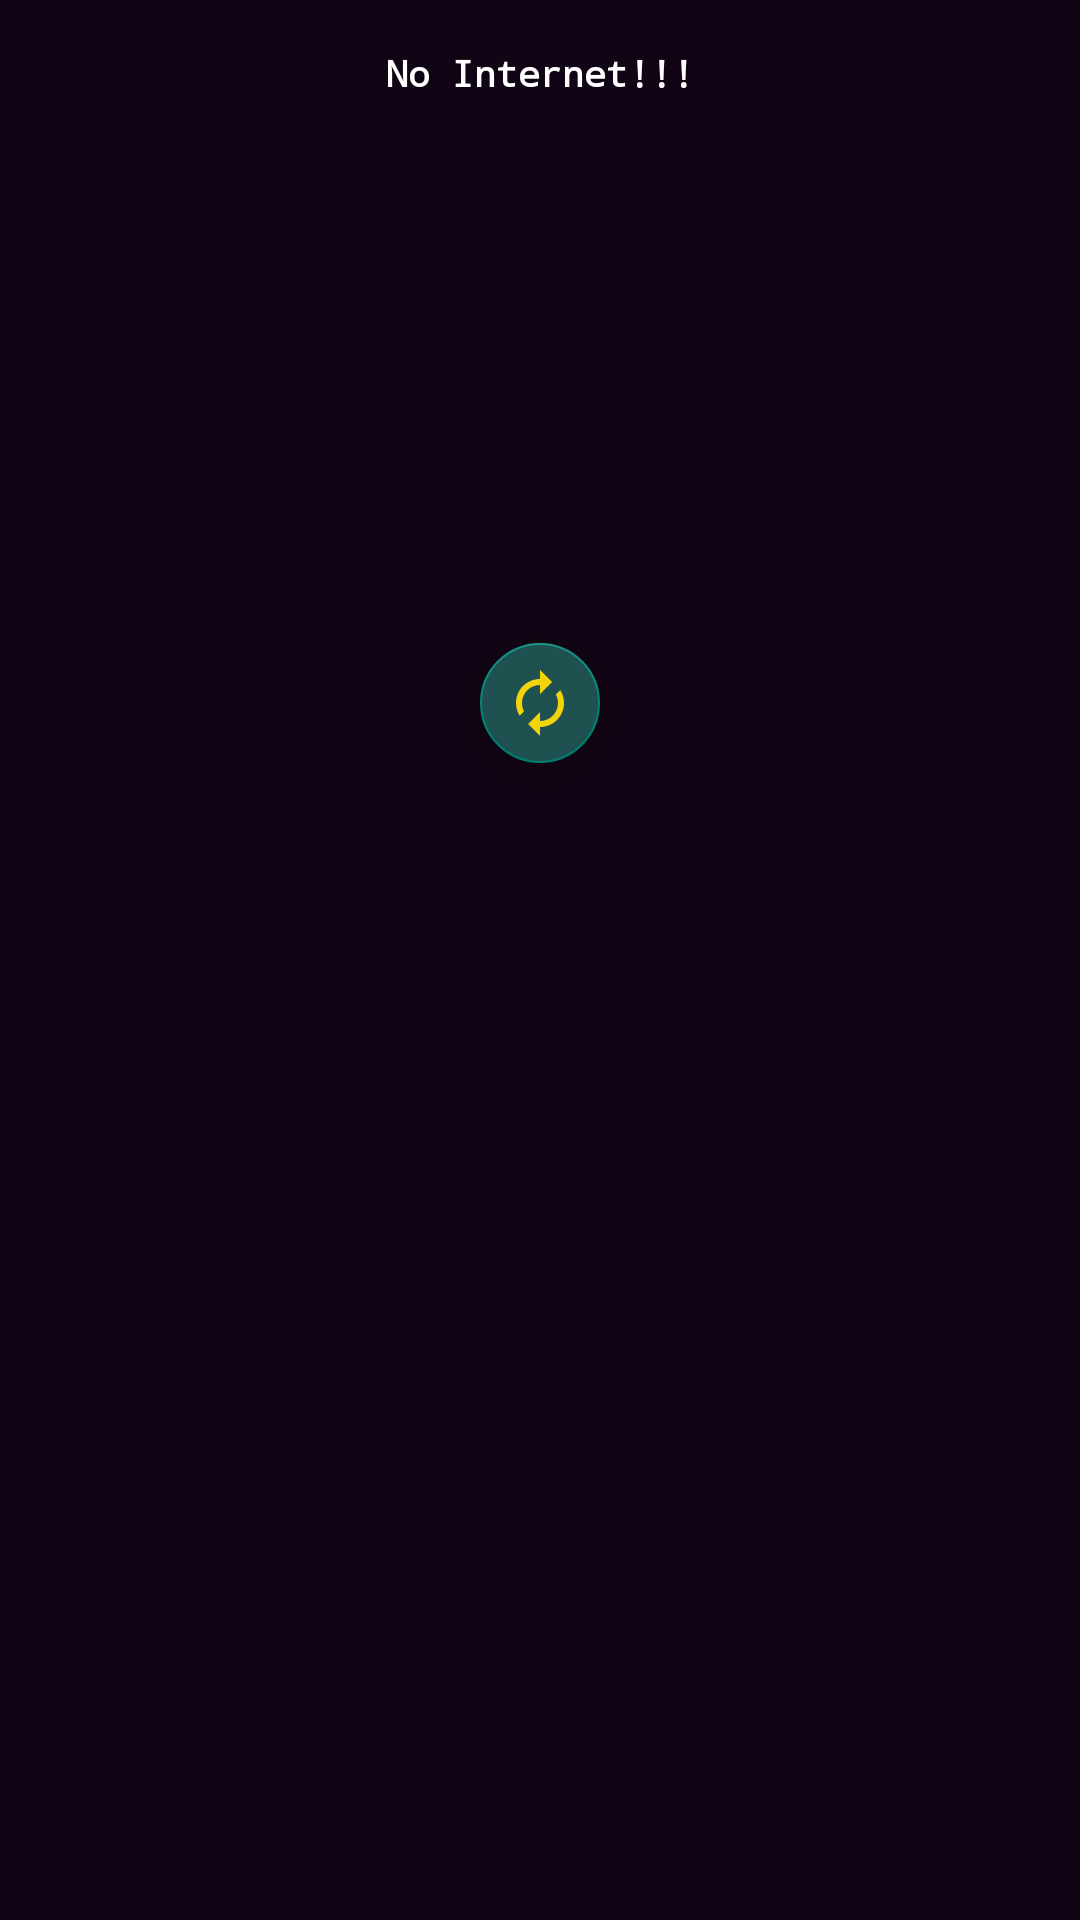

Where icons sit on this 1080 x 1920 app screen, as (x1, y1, x2, y2):
autorenew: (480, 643, 600, 763)
